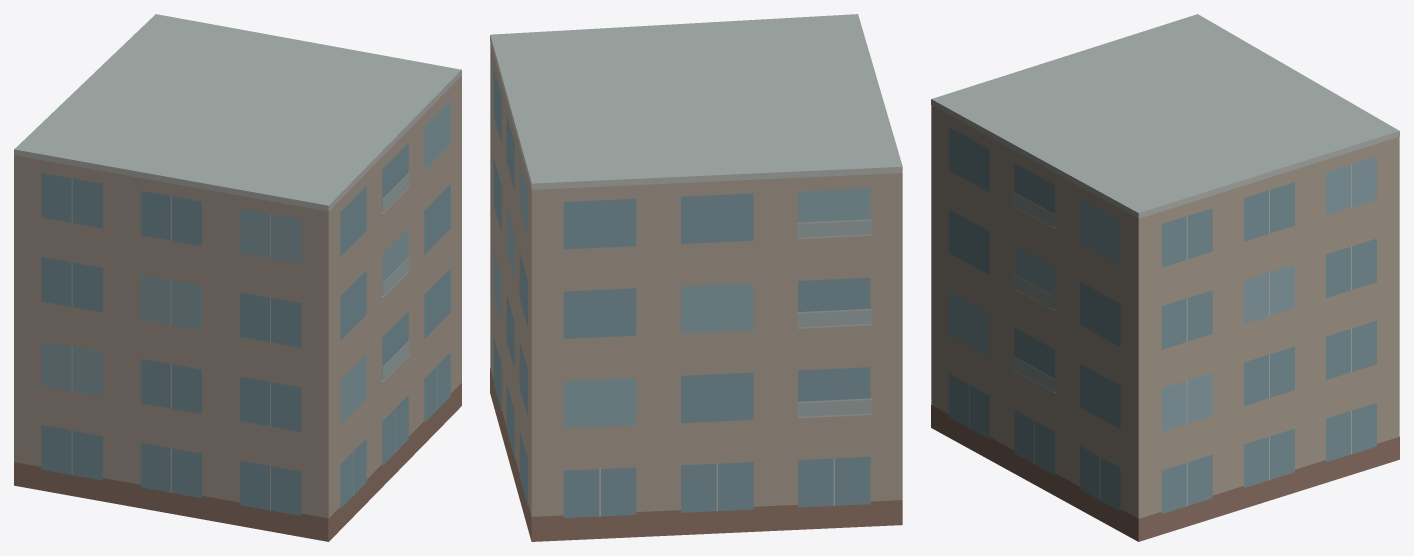
Rendered from survey-upis-32748905.glb.
3 renders of one model, left to right at view 1: azimuth 30°, elevation 25°; view 2: azimuth 150°, elevation 25°; view 3: azimuth 270°, elevation 25°, orthographic. The views are drawn at different scales.
Parts seen in each view (by area): view 1: survey-upis-32748905.tmp; view 2: survey-upis-32748905.tmp; view 3: survey-upis-32748905.tmp.
Part boxes in pixels (x1,y1,x2,y2): survey-upis-32748905.tmp: (14, 14, 461, 541); survey-upis-32748905.tmp: (490, 14, 902, 541); survey-upis-32748905.tmp: (931, 14, 1399, 541).
Size of the model in its own units: 18.2 by 14 by 18.1.
